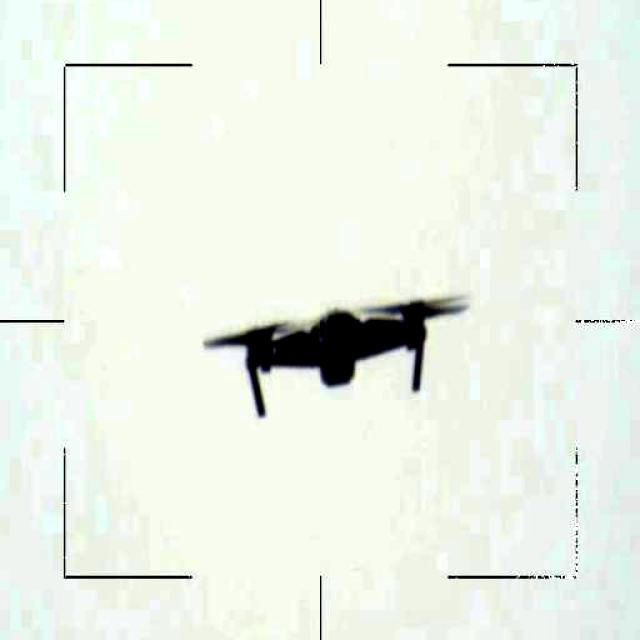bird: (196, 275, 471, 440)
